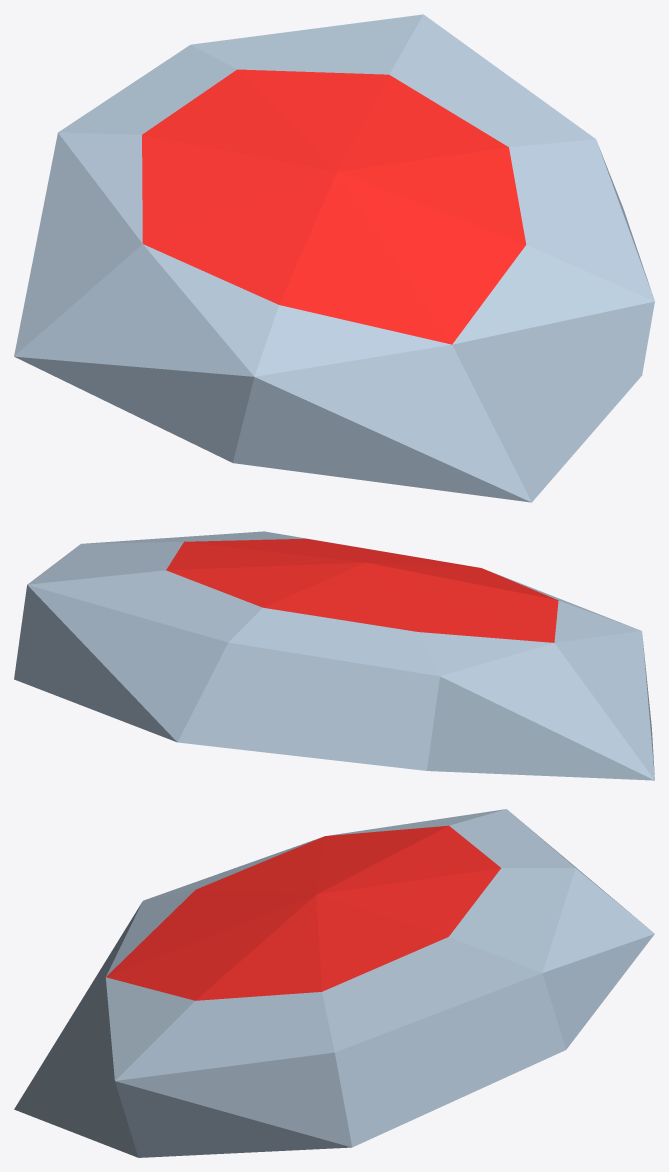
3 renders of one model, top to bottom at view 1: azimuth 30°, elevation 25°; view 2: azimuth 150°, elevation 25°; view 3: azimuth 270°, elevation 25°, orthographic. The views are drawn at different scales.
Visible parts, largest first — view 1: DP_02; view 2: DP_02; view 3: DP_02.
Boxes of the visible parts, x1=… form: DP_02: x1=14, y1=14, x2=654, y2=502; DP_02: x1=14, y1=531, x2=654, y2=780; DP_02: x1=14, y1=809, x2=654, y2=1157.
Bounding box in the file's own units: 0.6755 × 0.2619 × 0.6678.
